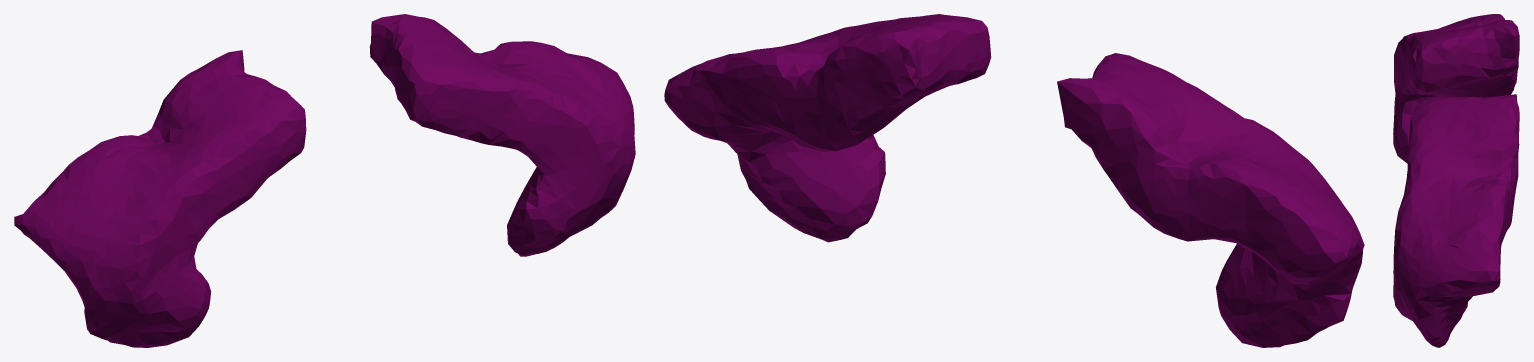
Rendered from 77-6DC(F2)-area 6 of cortex, dorsocaudal part (Matellis F2)-('0.4980', '0.0000', '0.4196').obj.
3 views of the same model, side by side, from view 1: azimuth 30°, elevation 25°; view 2: azimuth 150°, elevation 25°; view 3: azimuth 270°, elevation 25° (orthographic). The views are drawn at different scales.
Bounding box in the file's own units: 223 × 83.5 × 47.45.
